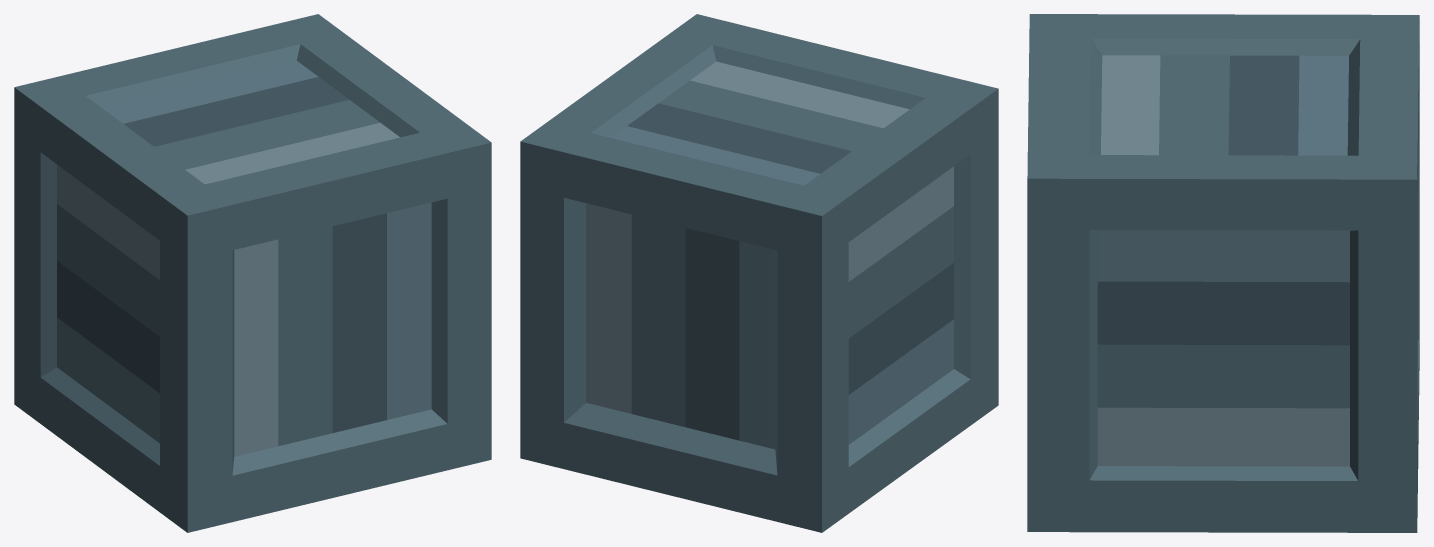
File: Ship_041.glb
3 views of the same model, side by side, from view 1: azimuth 30°, elevation 25°; view 2: azimuth 150°, elevation 25°; view 3: azimuth 270°, elevation 25° (orthographic). The views are drawn at different scales.
Parts seen in each view (by area): view 1: Ship_041; view 2: Ship_041; view 3: Ship_041.
Boxes of the visible parts, bbox=[...] form: Ship_041: bbox=[14, 14, 491, 532]; Ship_041: bbox=[520, 14, 998, 532]; Ship_041: bbox=[1027, 14, 1419, 532].
Size of the model in its own units: 0.6067 by 0.6033 by 0.6067.
1 material, 1 textured.
